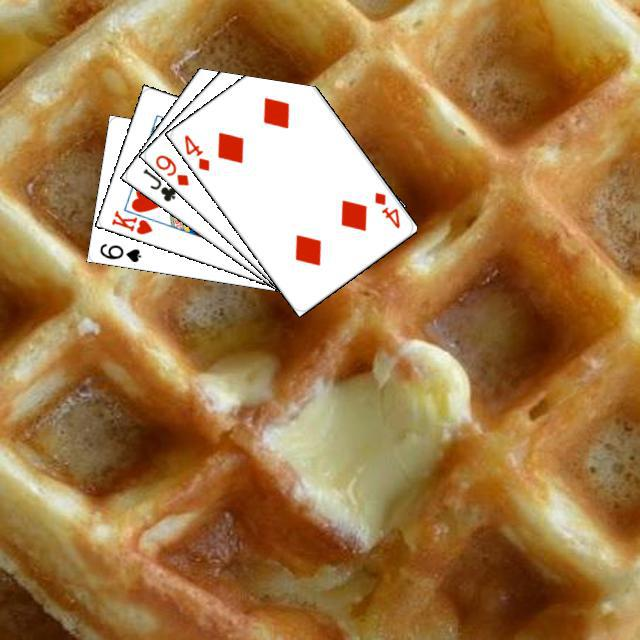4d: (369, 187, 402, 230), (179, 130, 211, 173)
6s: (95, 239, 143, 264)
9d: (150, 149, 191, 188)
Jc: (138, 163, 178, 203)
Kh: (106, 202, 161, 236)
